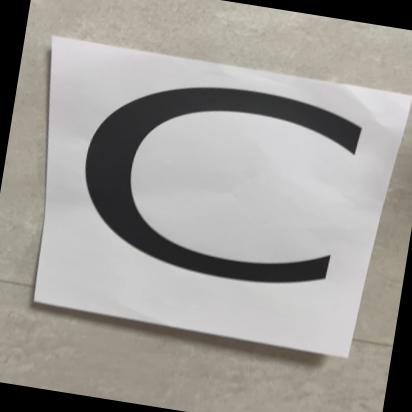seat: (16, 32, 398, 352)
